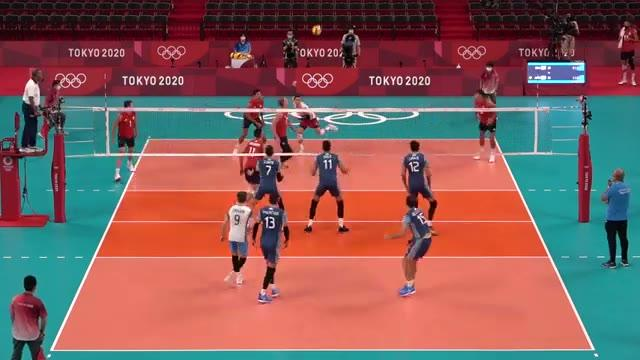ball: (312, 24, 322, 35)
